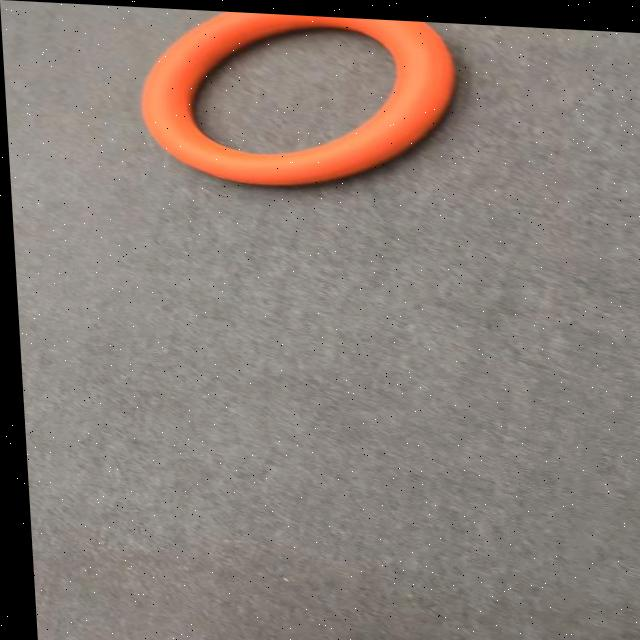note: (127, 5, 459, 195), (127, 5, 458, 176)
